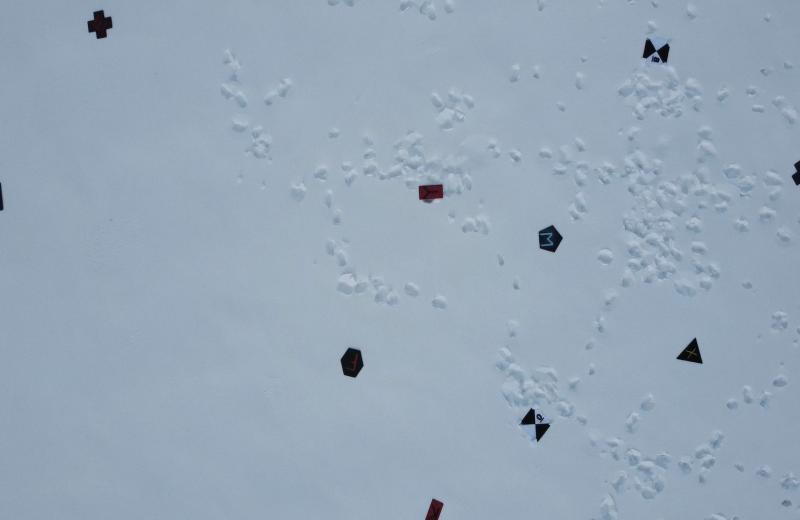Cross: (86, 9, 114, 44), (786, 157, 800, 188)
Hexagon: (337, 344, 366, 380)
Pentagon: (536, 223, 569, 258)
Rectangle: (416, 180, 450, 206), (422, 496, 447, 520)
Triangle: (676, 336, 703, 370)
